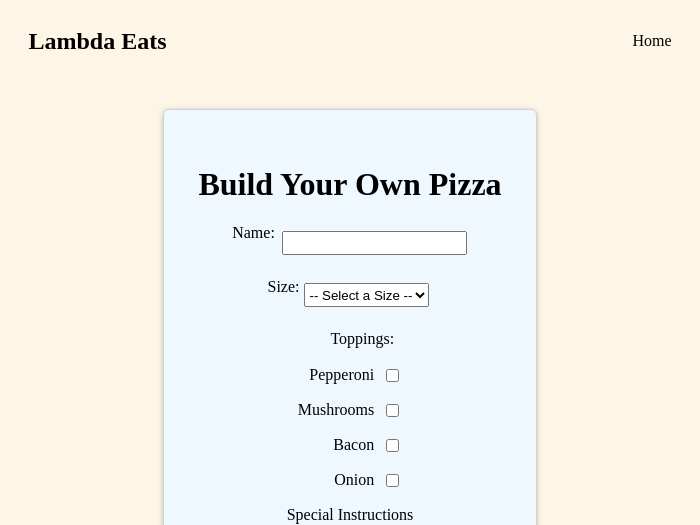
Test: Checks that error messages appear appropiately › enters invalid name input and checks for error message
In the field with id "nameInput": (375, 243) x1=282 y1=231 x2=467 y2=255, type "a"
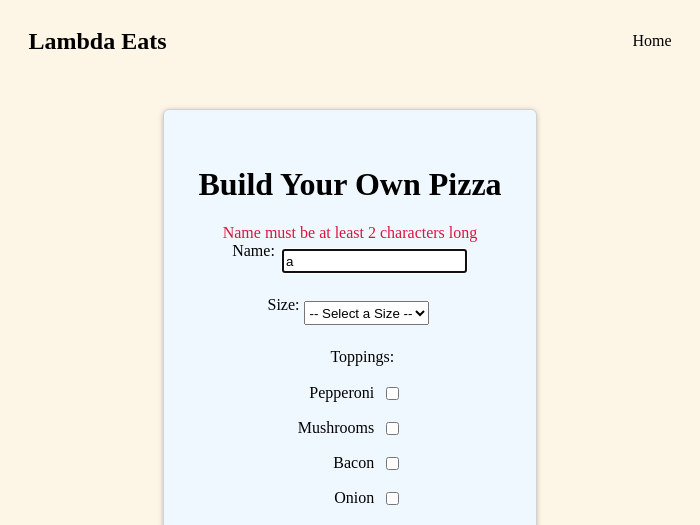
Now the text "2 characters" is shown, box x1=223 y1=224 x2=478 y2=241
